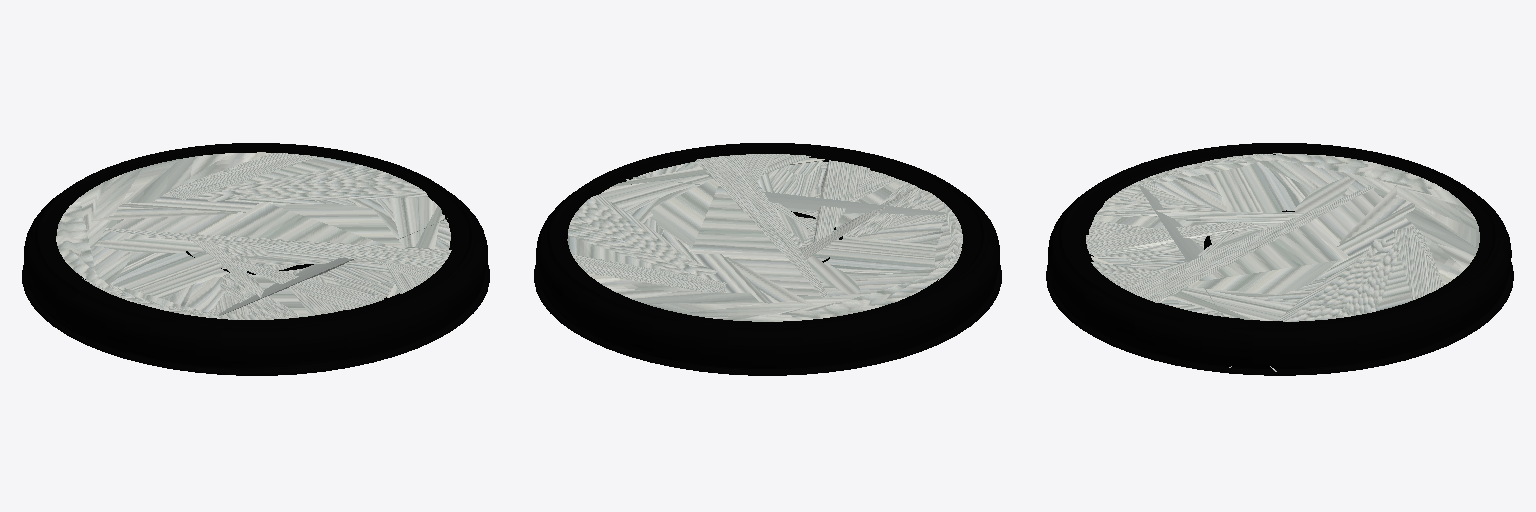
3 views of the same model, side by side, from view 1: azimuth 30°, elevation 25°; view 2: azimuth 150°, elevation 25°; view 3: azimuth 270°, elevation 25° (orthographic).
Parts seen in each view (by area): view 1: cup, lid; view 2: cup, lid; view 3: cup, lid.
Boxes of the visible parts, x1,y1,x2,y2 form: cup: [56, 152, 451, 319]; lid: [22, 143, 489, 375]; cup: [567, 154, 962, 321]; lid: [534, 143, 1001, 375]; cup: [1086, 153, 1479, 371]; lid: [1046, 143, 1513, 375].
Size of the model in its own units: 60.72 by 6.06 by 60.72.
Materials: 2 (1 with a texture image).